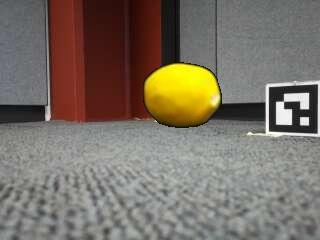lemon: (145, 64, 222, 128)
